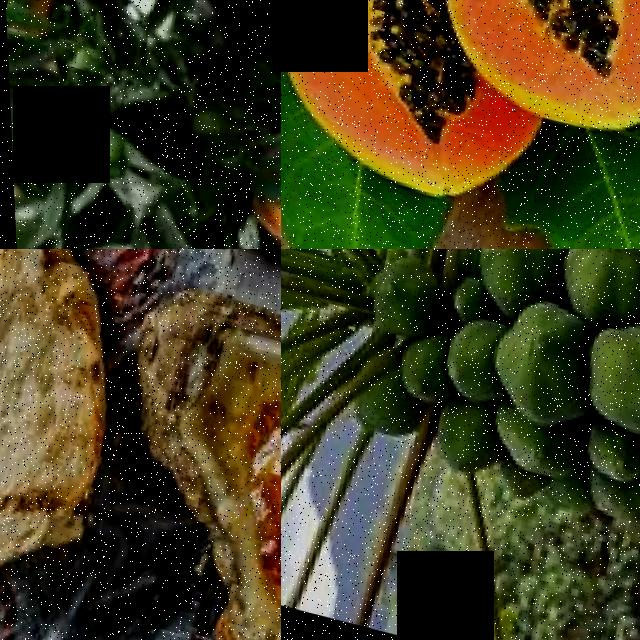orange: (246, 102, 281, 249)
pawpaw: (281, 0, 517, 189), (419, 0, 640, 124), (479, 294, 589, 434), (353, 249, 445, 341), (476, 407, 586, 482), (571, 319, 640, 438), (416, 393, 500, 482), (549, 249, 640, 328), (464, 249, 566, 312), (434, 309, 501, 403), (384, 327, 445, 402), (573, 417, 640, 481)
